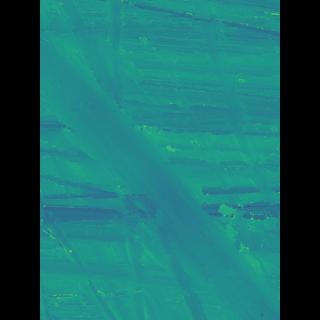Loch: (69, 25, 250, 320)
